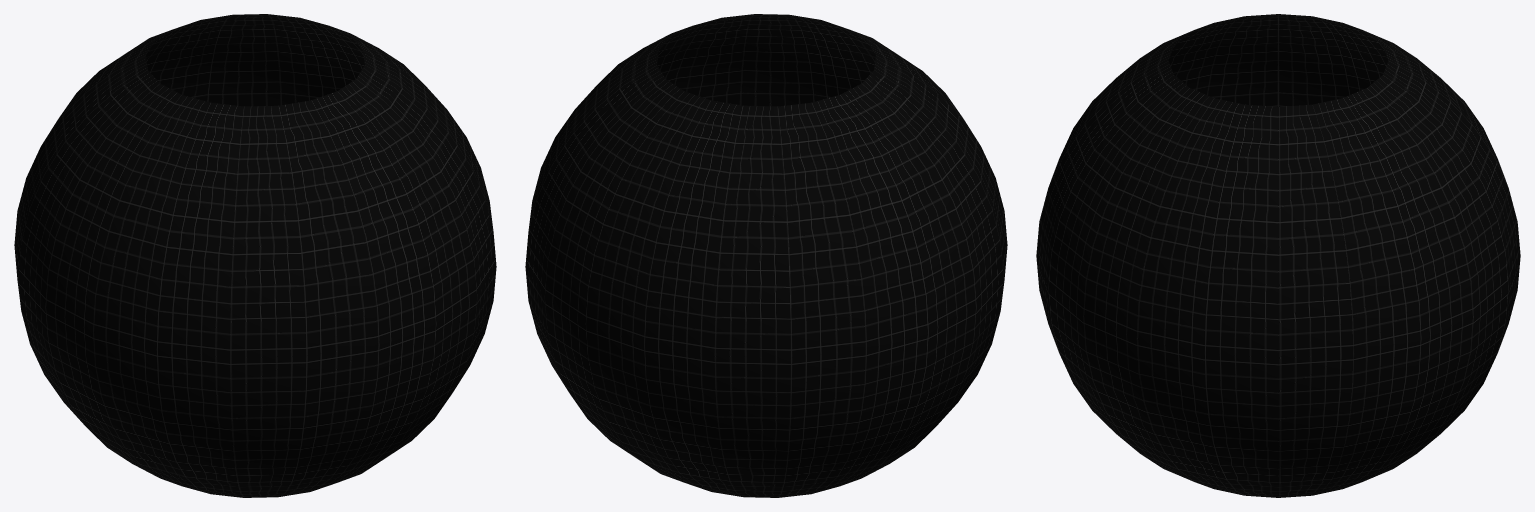
The model's file is Grid Background.fbx.
The picture shows the model from 3 angles, left to right: view 1: azimuth 30°, elevation 25°; view 2: azimuth 150°, elevation 25°; view 3: azimuth 270°, elevation 25°; orthographic projection.
Visible parts, largest first — view 1: Grid; view 2: Grid; view 3: Grid.
Boxes of the visible parts, <box> form: Grid: <box>14,14,496,497</box>; Grid: <box>525,14,1007,497</box>; Grid: <box>1036,14,1520,497</box>.
Size of the model in its own units: 438 by 390 by 438.
Materials: 1 (1 with a texture image).
